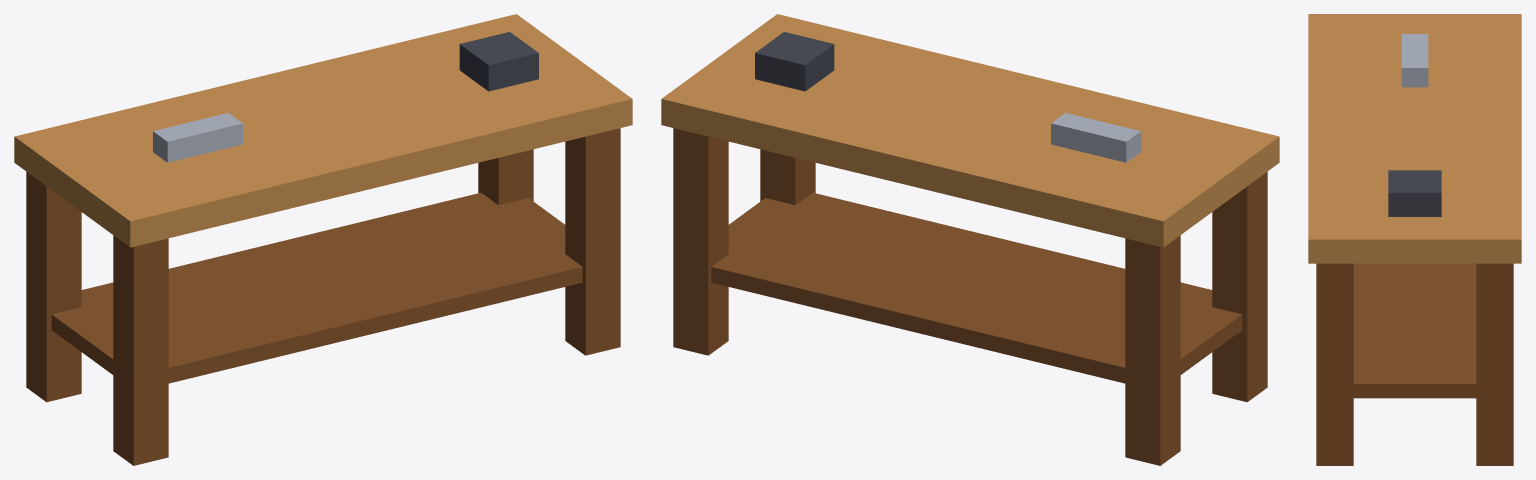
The model's file is workbench.glb.
The picture shows the model from 3 angles, left to right: view 1: azimuth 30°, elevation 25°; view 2: azimuth 150°, elevation 25°; view 3: azimuth 270°, elevation 25°; orthographic projection. The views are drawn at different scales.
Parts seen in each view (by area): view 1: workbench; view 2: workbench; view 3: workbench.
Boxes of the visible parts, x1,y1,x2,y2 form: workbench: [14, 14, 632, 465]; workbench: [661, 14, 1279, 465]; workbench: [1308, 14, 1521, 465].
Bounding box in the file's own units: 2 × 1.05 × 0.8.
